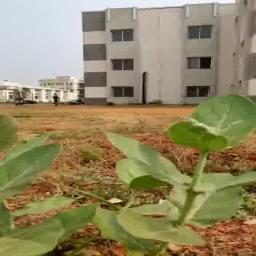Calotropis: (188, 170, 238, 220), (101, 207, 179, 239), (180, 123, 220, 153), (200, 94, 230, 132), (141, 158, 178, 182), (22, 146, 44, 175), (230, 98, 244, 140), (111, 131, 139, 151), (9, 235, 41, 252), (1, 163, 13, 197), (53, 219, 70, 238), (34, 200, 78, 207), (118, 163, 134, 180), (79, 208, 97, 223), (2, 126, 10, 155), (125, 247, 163, 252), (140, 144, 154, 157), (179, 235, 200, 243), (241, 170, 253, 183), (47, 140, 57, 148), (172, 191, 178, 201)
